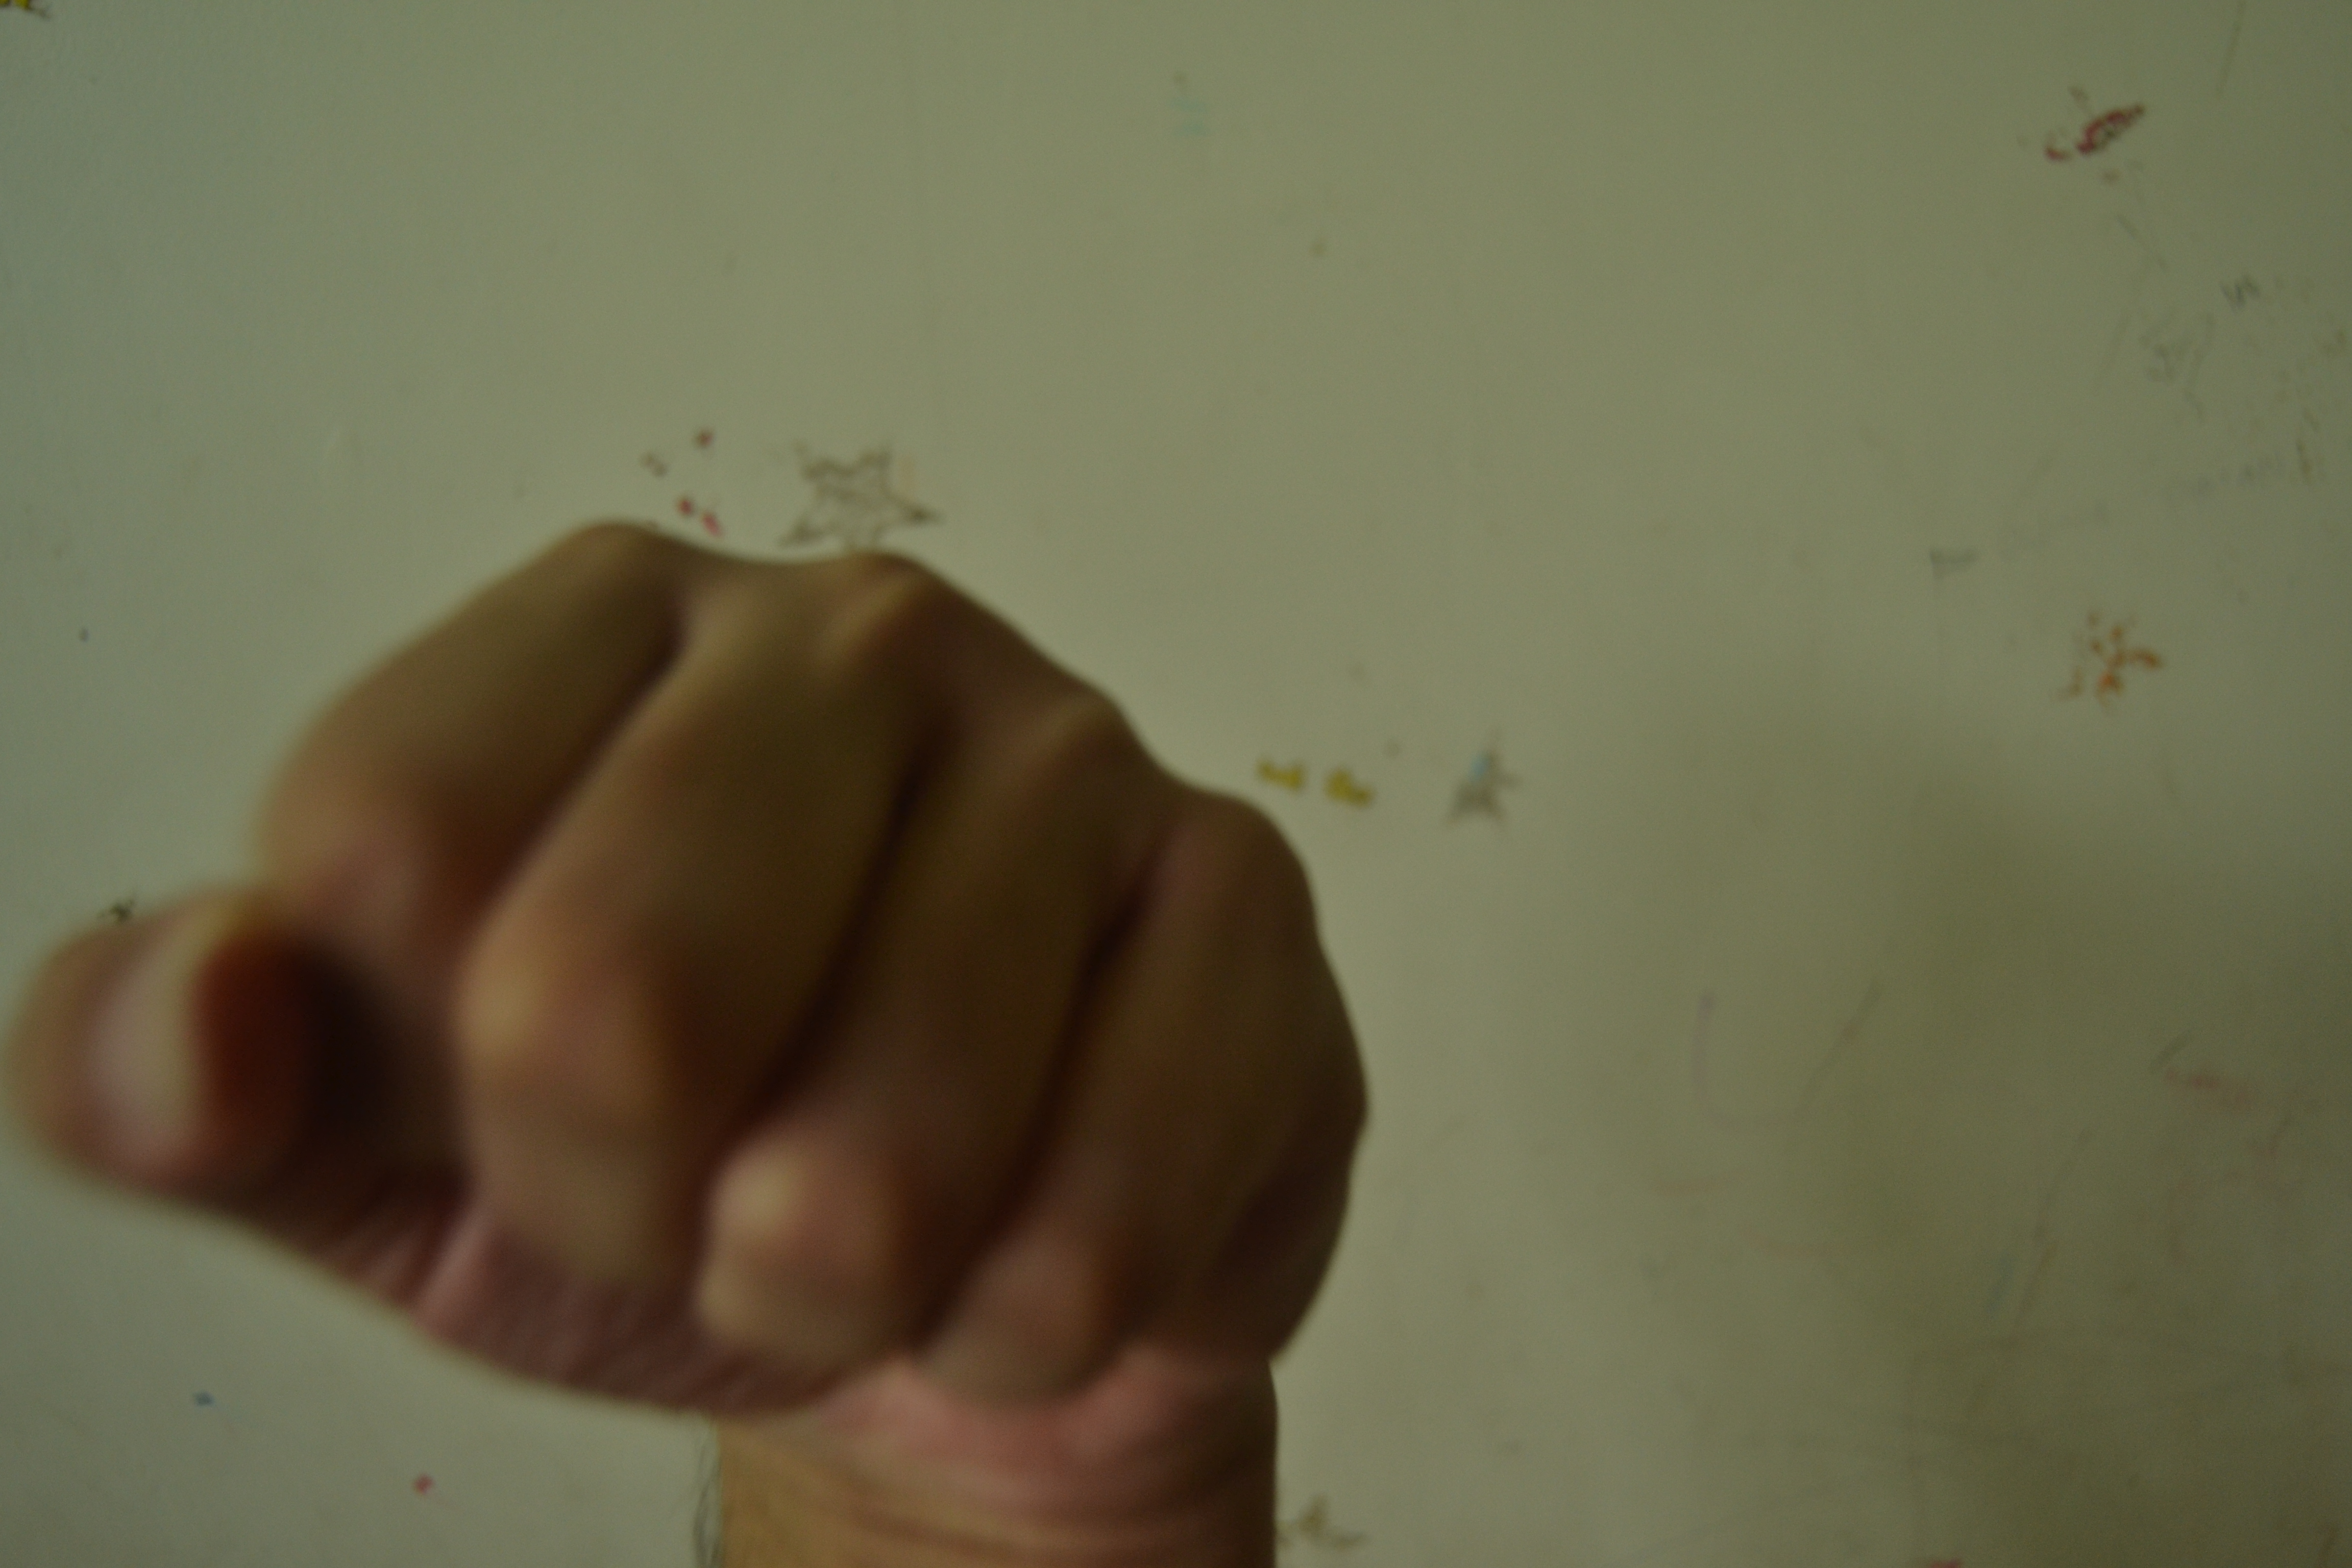click: (0, 465, 1619, 1493)
